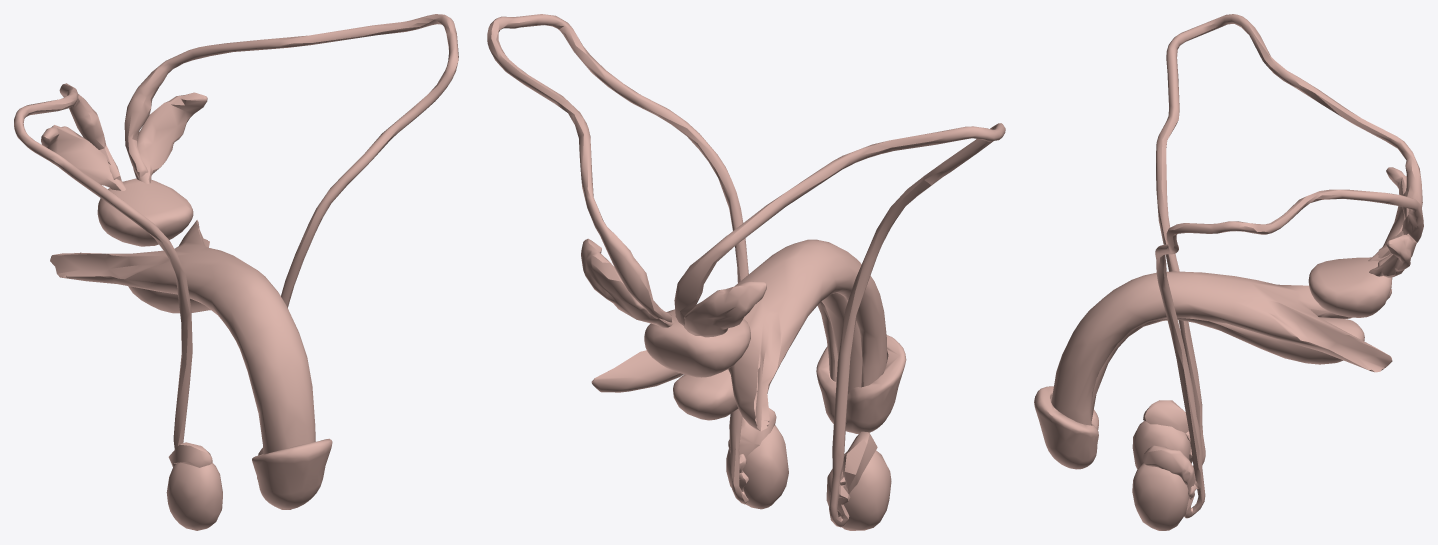
The model's file is male.glb.
The picture shows the model from 3 angles, left to right: view 1: azimuth 30°, elevation 25°; view 2: azimuth 150°, elevation 25°; view 3: azimuth 270°, elevation 25°; orthographic projection. The views are drawn at different scales.
Parts seen in each view (by area): view 1: bp3d_FMA19618_FJ3132, bp3d_FMA19236_FJ3135, bp3d_FMA19235_FJ3140, bp3d_FMA9600_FJ3139, bp3d_FMA18247_FJ3134, bp3d_FMA7211_FJ3142, bp3d_FMA19388_FJ3137, bp3d_FMA19387_FJ3143, bp3d_FMA19617_FJ3133, bp3d_FMA18256_FJ3141; view 2: bp3d_FMA19618_FJ3132, bp3d_FMA19235_FJ3140, bp3d_FMA19236_FJ3135, bp3d_FMA9600_FJ3139, bp3d_FMA19617_FJ3133, bp3d_FMA18247_FJ3134, bp3d_FMA7212_FJ3138, bp3d_FMA19387_FJ3143, bp3d_FMA7211_FJ3142, bp3d_FMA19388_FJ3137, bp3d_FMA18256_FJ3141, bp3d_FMA18257_FJ3136; view 3: bp3d_FMA19618_FJ3132, bp3d_FMA19235_FJ3140, bp3d_FMA19236_FJ3135, bp3d_FMA9600_FJ3139, bp3d_FMA18247_FJ3134, bp3d_FMA7212_FJ3138, bp3d_FMA19617_FJ3133, bp3d_FMA7211_FJ3142, bp3d_FMA18257_FJ3136, bp3d_FMA19388_FJ3137, bp3d_FMA18256_FJ3141, bp3d_FMA19387_FJ3143.
Part boxes in pixels (x1=…): bp3d_FMA19618_FJ3132: x1=50, y1=220, x2=315, y2=454; bp3d_FMA19236_FJ3135: x1=124, y1=14, x2=458, y2=307; bp3d_FMA19235_FJ3140: x1=14, y1=83, x2=192, y2=449; bp3d_FMA9600_FJ3139: x1=97, y1=178, x2=193, y2=246; bp3d_FMA18247_FJ3134: x1=252, y1=438, x2=332, y2=509; bp3d_FMA7211_FJ3142: x1=166, y1=462, x2=222, y2=530; bp3d_FMA19388_FJ3137: x1=133, y1=92, x2=207, y2=183; bp3d_FMA19387_FJ3143: x1=41, y1=125, x2=125, y2=190; bp3d_FMA19617_FJ3133: x1=128, y1=286, x2=210, y2=313; bp3d_FMA18256_FJ3141: x1=168, y1=442, x2=212, y2=467; bp3d_FMA19618_FJ3132: x1=591, y1=239, x2=886, y2=431; bp3d_FMA19235_FJ3140: x1=674, y1=123, x2=1005, y2=527; bp3d_FMA19236_FJ3135: x1=487, y1=14, x2=748, y2=504; bp3d_FMA9600_FJ3139: x1=644, y1=309, x2=750, y2=377; bp3d_FMA19617_FJ3133: x1=673, y1=293, x2=862, y2=420; bp3d_FMA18247_FJ3134: x1=816, y1=335, x2=906, y2=434; bp3d_FMA7212_FJ3138: x1=726, y1=425, x2=788, y2=509; bp3d_FMA19387_FJ3143: x1=684, y1=281, x2=766, y2=337; bp3d_FMA7211_FJ3142: x1=826, y1=450, x2=891, y2=530; bp3d_FMA19388_FJ3137: x1=581, y1=238, x2=674, y2=327; bp3d_FMA18256_FJ3141: x1=842, y1=431, x2=877, y2=493; bp3d_FMA18257_FJ3136: x1=728, y1=408, x2=776, y2=457; bp3d_FMA19618_FJ3132: x1=1051, y1=271, x2=1392, y2=425; bp3d_FMA19235_FJ3140: x1=1156, y1=14, x2=1422, y2=466; bp3d_FMA19236_FJ3135: x1=1155, y1=189, x2=1423, y2=518; bp3d_FMA9600_FJ3139: x1=1308, y1=257, x2=1392, y2=317; bp3d_FMA18247_FJ3134: x1=1034, y1=386, x2=1098, y2=469; bp3d_FMA7212_FJ3138: x1=1132, y1=463, x2=1188, y2=530; bp3d_FMA19617_FJ3133: x1=1091, y1=317, x2=1364, y2=423; bp3d_FMA7211_FJ3142: x1=1132, y1=421, x2=1190, y2=469; bp3d_FMA18257_FJ3136: x1=1142, y1=445, x2=1195, y2=499; bp3d_FMA19388_FJ3137: x1=1369, y1=233, x2=1416, y2=277; bp3d_FMA18256_FJ3141: x1=1143, y1=400, x2=1188, y2=433; bp3d_FMA19387_FJ3143: x1=1368, y1=167, x2=1406, y2=261.
Size of the model in its own units: 0.1867 by 0.1712 by 0.1483.
